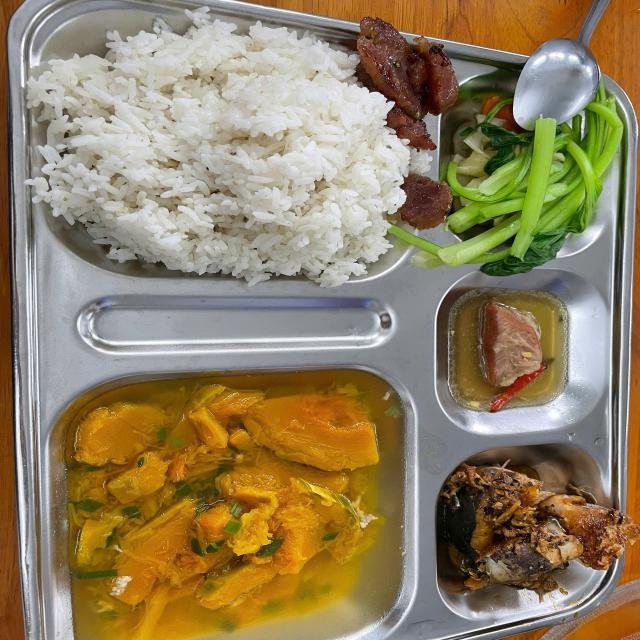caixao: (459, 104, 616, 262)
cakho: (447, 465, 629, 609)
canhbido: (53, 380, 403, 640)
salad: (32, 41, 365, 277)
suonram: (361, 18, 452, 228)
thitkhogung: (454, 288, 567, 405)
